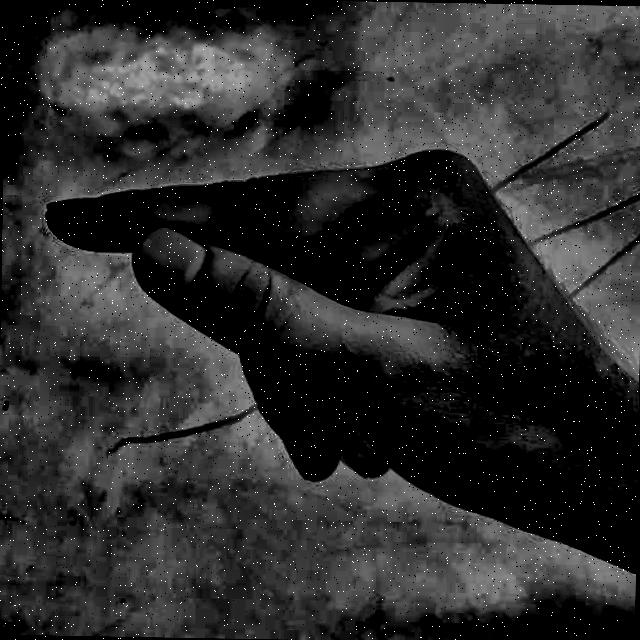Tha: (36, 117, 637, 582)
